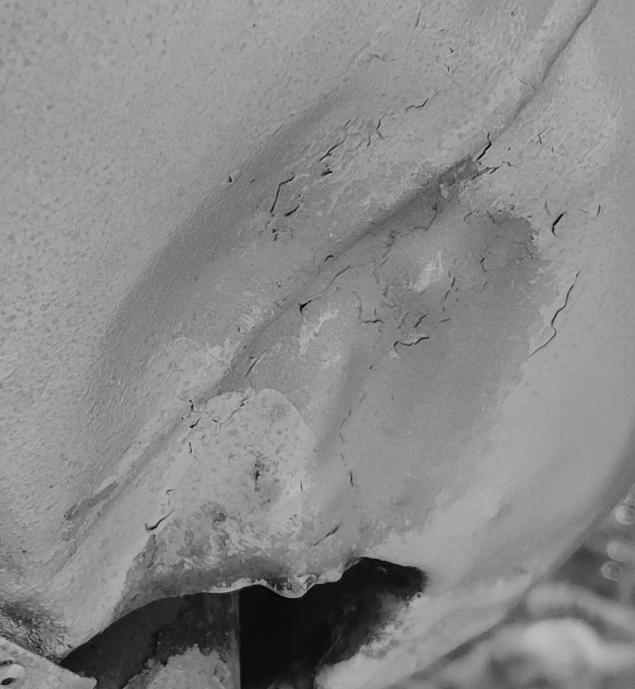dent: (1, 0, 635, 689)
